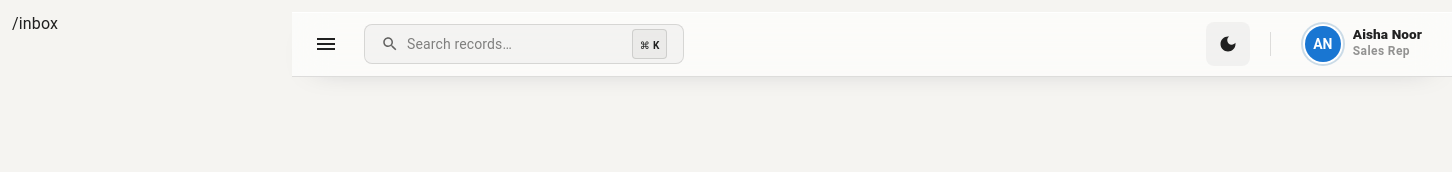
Test: Navbar global search › sanitizes search failures instead of exposing gateway details or rendering a false no-match state
Type "bolt" into the dropdown named "Search customers, suppliers, products, enquiries, quotes, orders and shipments" at [520, 44], box [407, 29, 632, 58]
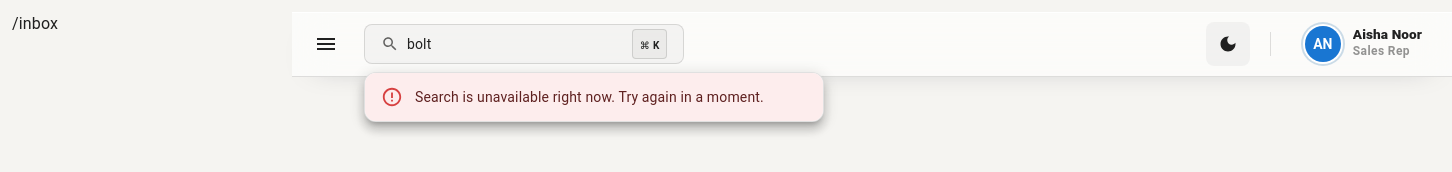
expect the message "Search is unavailable right now. Try again in a moment." is shown: met, box [365, 73, 823, 121]
